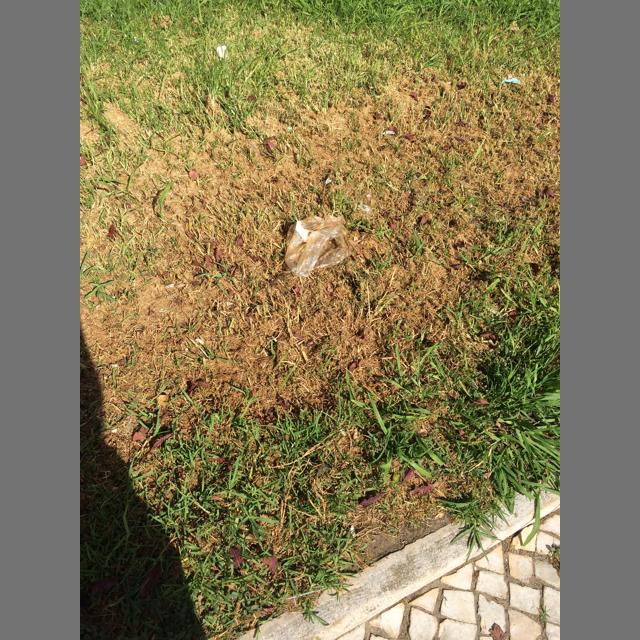litter: (285, 215, 351, 278), (217, 45, 227, 58), (359, 207, 372, 215)
